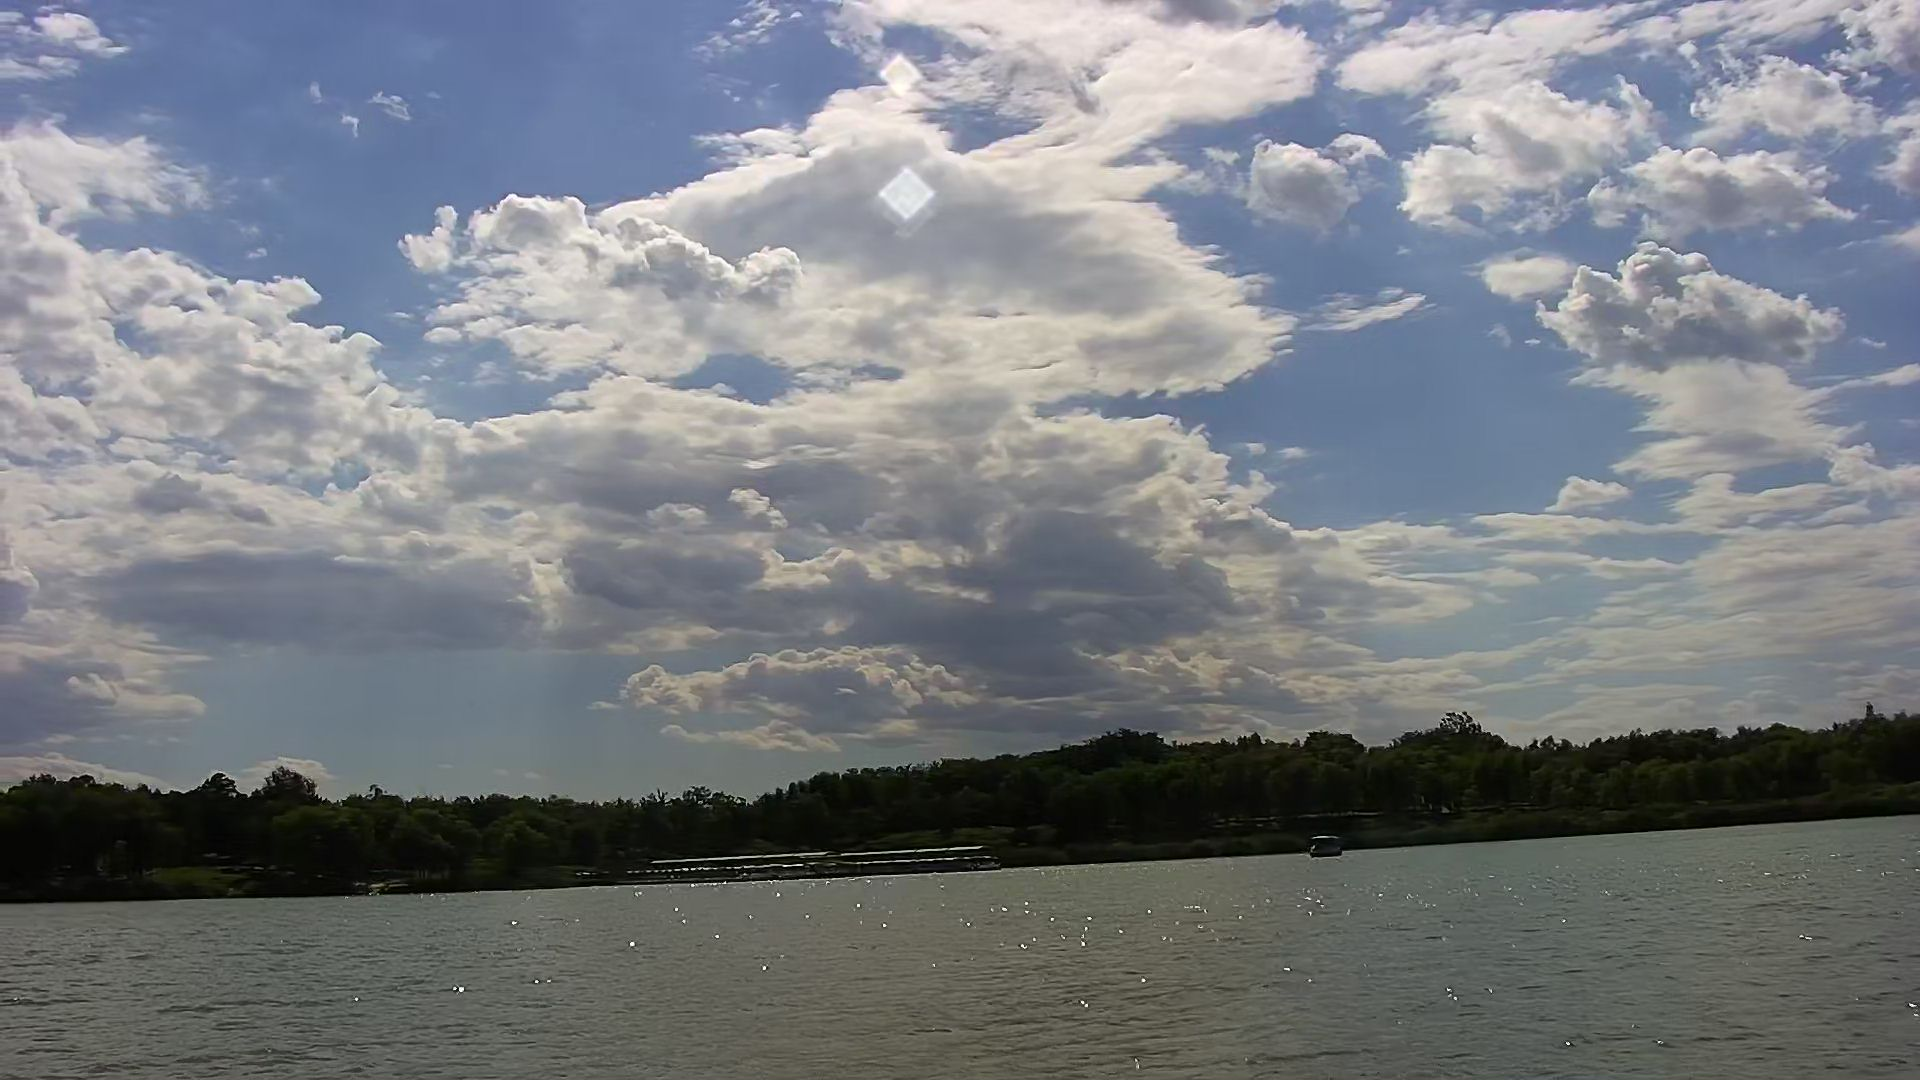boat: (1305, 827, 1346, 864)
harbor: (638, 840, 996, 885)
